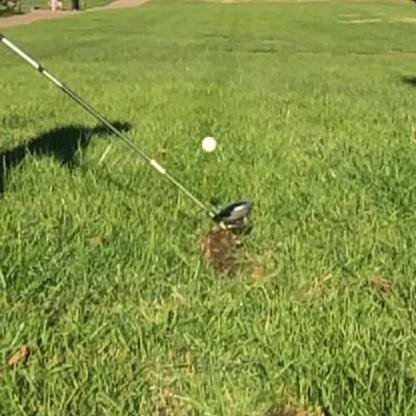golfball: (199, 133, 216, 152)
